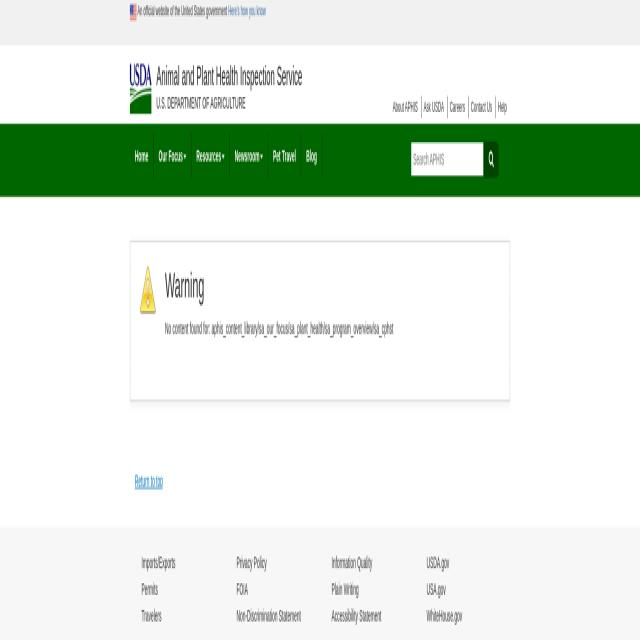button: (130, 242, 510, 401), (130, 63, 304, 114), (191, 134, 230, 177), (230, 134, 268, 177), (154, 134, 191, 177), (268, 134, 301, 177), (130, 134, 154, 177), (302, 134, 322, 177), (228, 4, 266, 18), (484, 141, 498, 178), (130, 1, 136, 22)
field: (411, 141, 483, 176)
